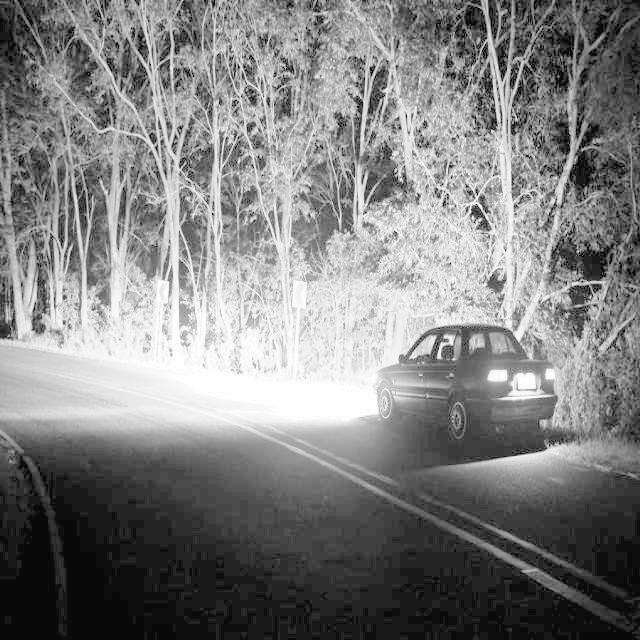Car: (369, 321, 562, 452)
Tree: (470, 0, 588, 345), (229, 5, 317, 366), (122, 3, 190, 368), (364, 7, 420, 356), (50, 49, 99, 328), (84, 103, 140, 329), (0, 137, 38, 345)
